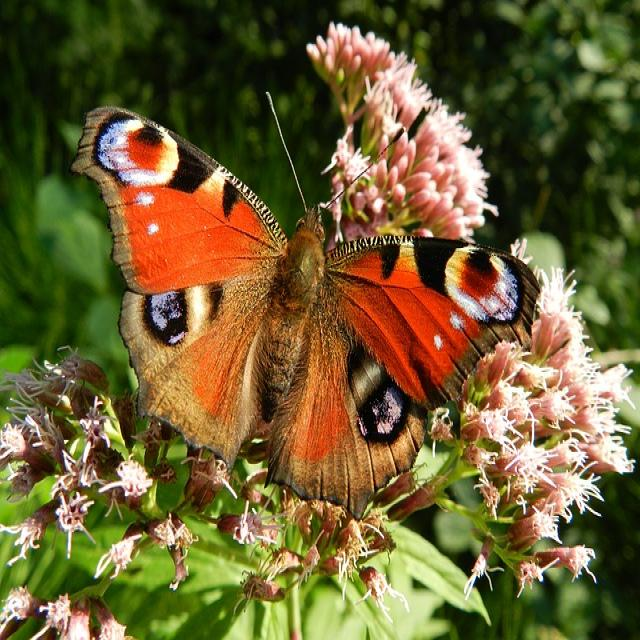butterfly: (72, 110, 539, 518)
